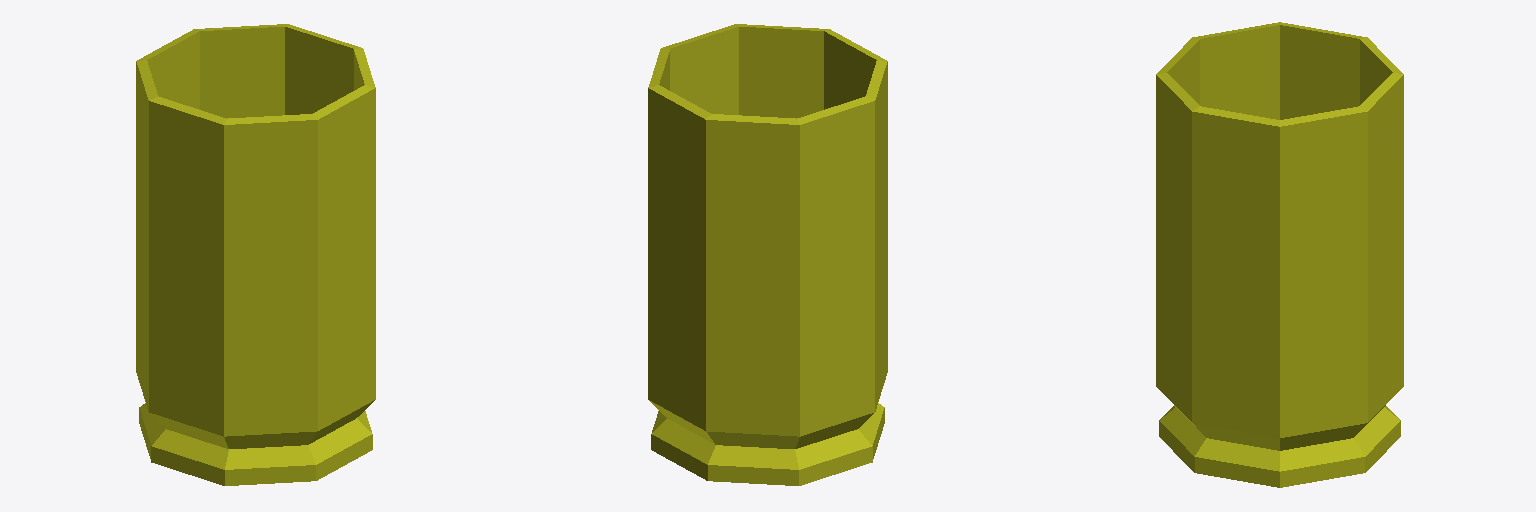
3 renders of one model, left to right at view 1: azimuth 30°, elevation 25°; view 2: azimuth 150°, elevation 25°; view 3: azimuth 270°, elevation 25°, orthographic.
Parts seen in each view (by area): view 1: Cylinder.003; view 2: Cylinder.003; view 3: Cylinder.003.
Boxes of the visible parts, x1,y1,x2,y2 form: Cylinder.003: [136, 24, 375, 485]; Cylinder.003: [648, 24, 887, 485]; Cylinder.003: [1156, 22, 1403, 487].
Bounding box in the file's own units: 2 × 3.27 × 2.
Materials: 1 (1 with a texture image).